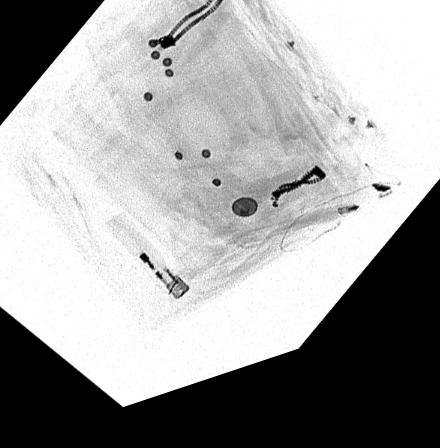Lighter: (102, 220, 190, 311)
